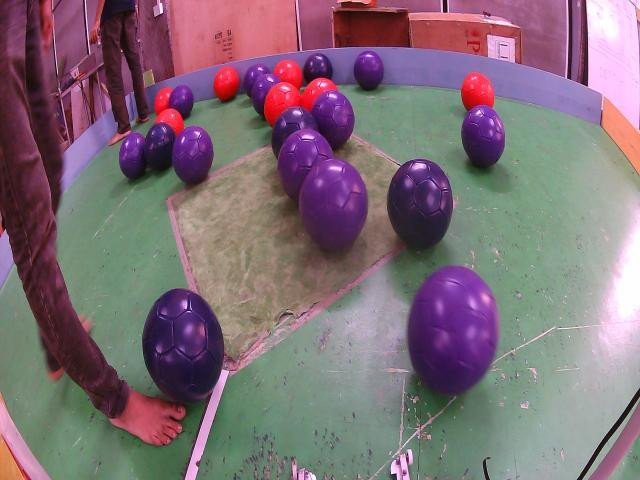jambhalya: (408, 265, 499, 395), (299, 158, 369, 250), (278, 128, 332, 202), (461, 105, 505, 167), (310, 90, 355, 148), (172, 125, 214, 184), (251, 73, 281, 118), (119, 132, 146, 178), (354, 50, 384, 90), (242, 63, 270, 97), (169, 85, 194, 118)
kaalyya: (142, 288, 225, 402), (388, 160, 454, 248), (271, 107, 319, 158), (144, 122, 176, 170), (304, 53, 332, 83)
